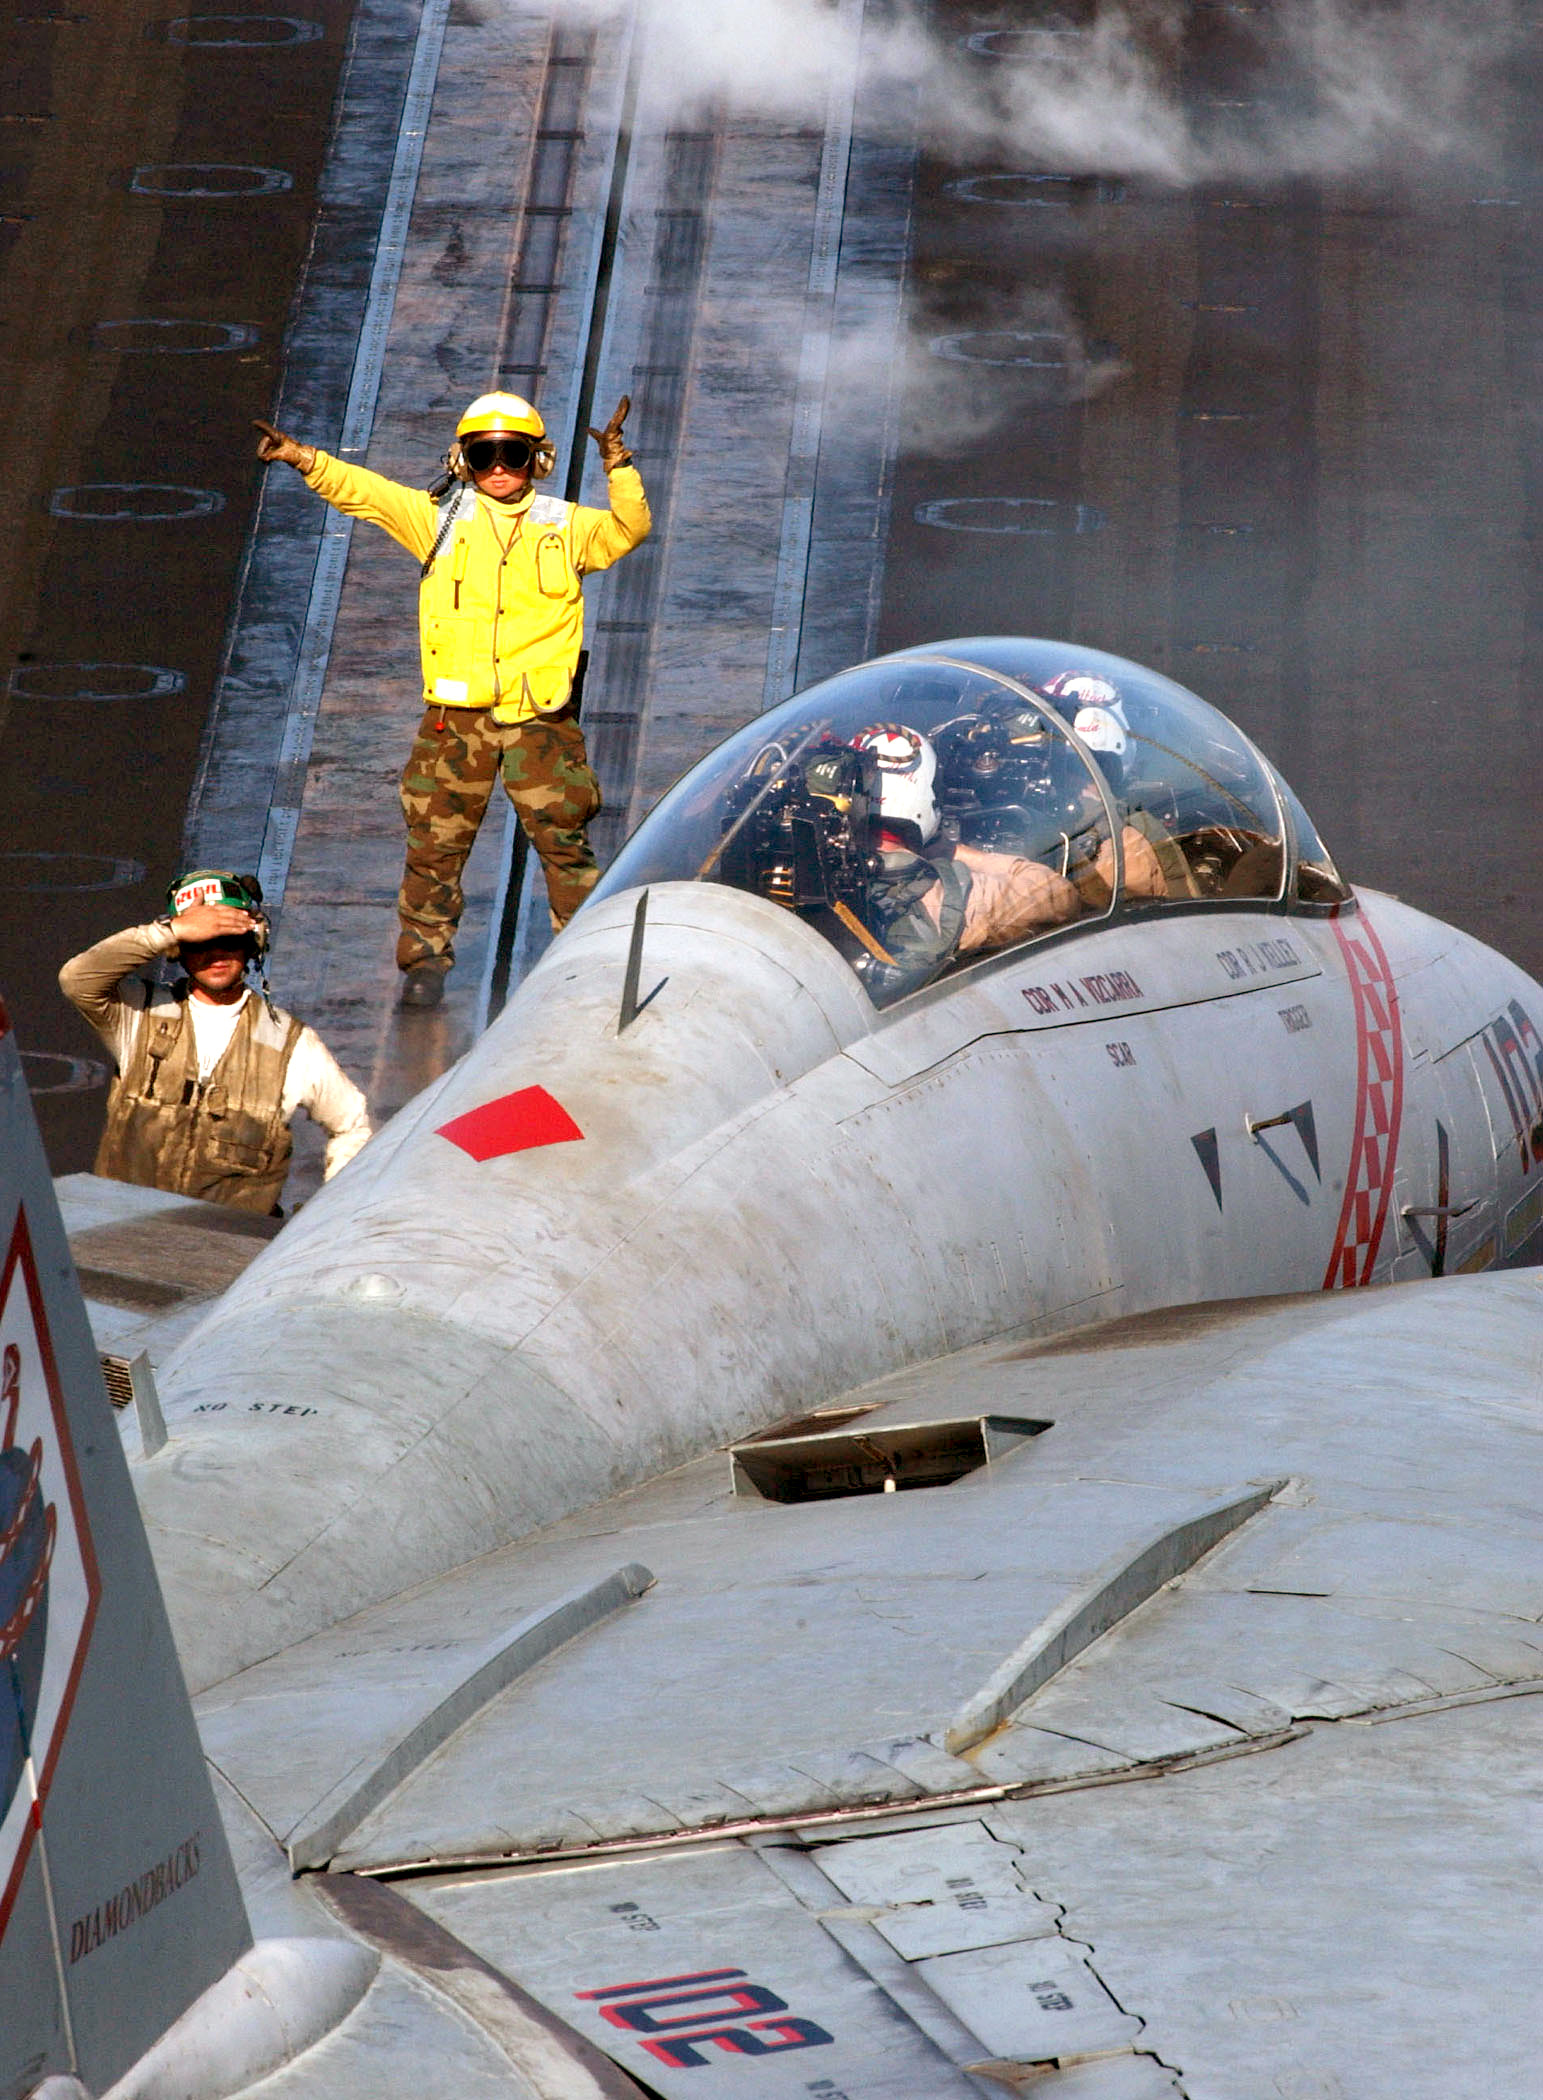F14: (2, 634, 1543, 2100)
